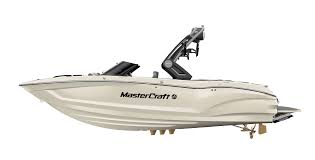boat: (19, 24, 302, 139)
